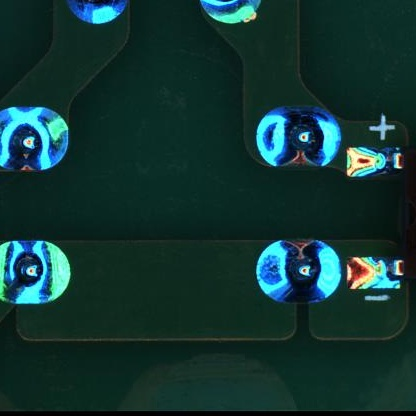spot: (255, 240, 342, 306), (255, 105, 342, 170), (1, 240, 73, 306), (1, 107, 69, 172)
